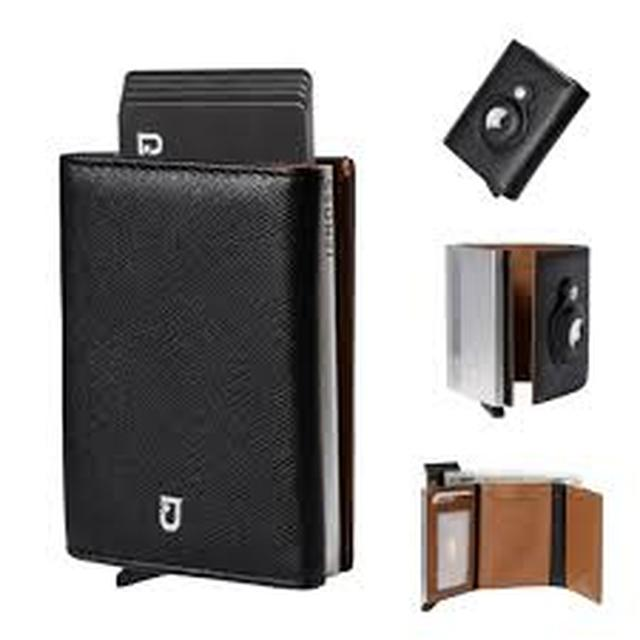wallet: (48, 65, 360, 586), (397, 472, 635, 619), (416, 226, 602, 407), (442, 33, 587, 197)
